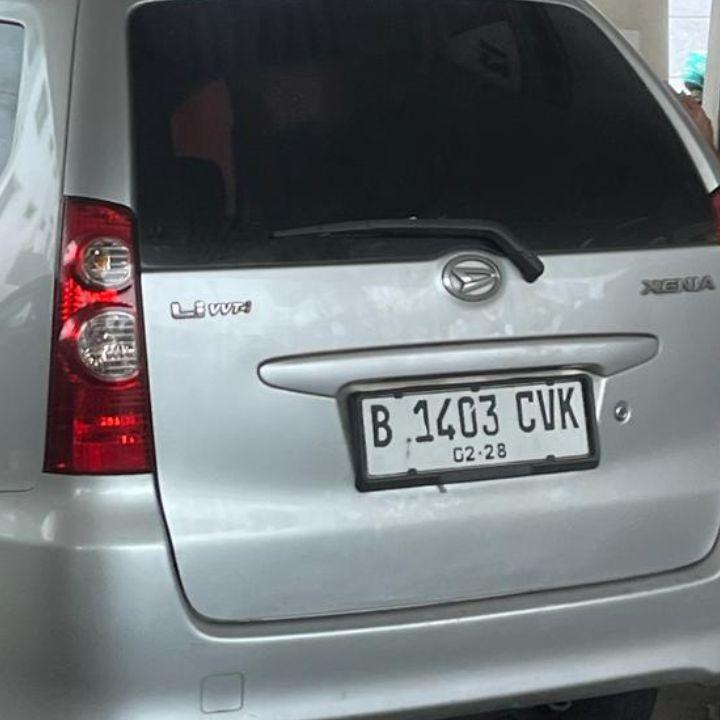plat: (352, 375, 598, 489)
